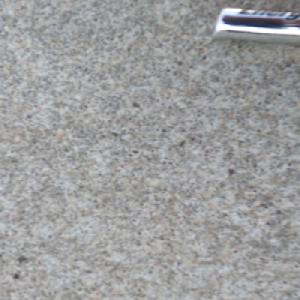Battery: (209, 6, 300, 46)
